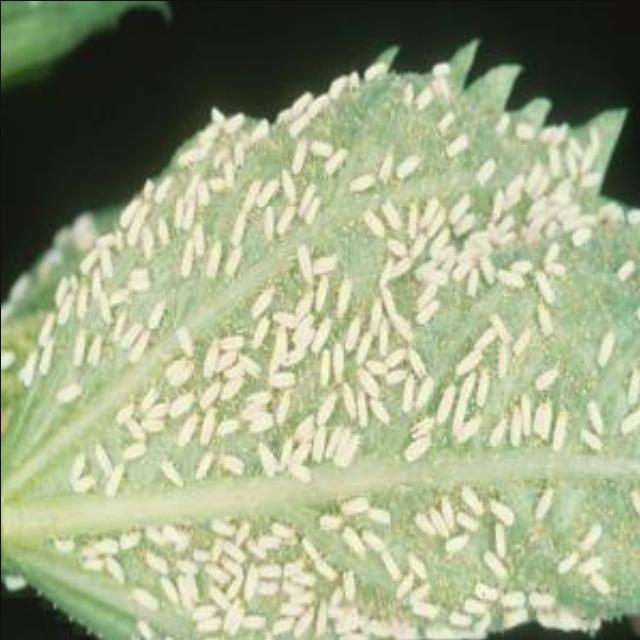Silverleaf whitefly: (0, 32, 637, 640)
